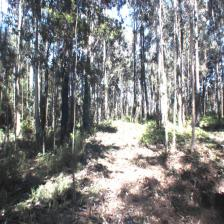trunktrack_idkeyframe: (60, 79, 68, 134), (189, 77, 194, 148)
